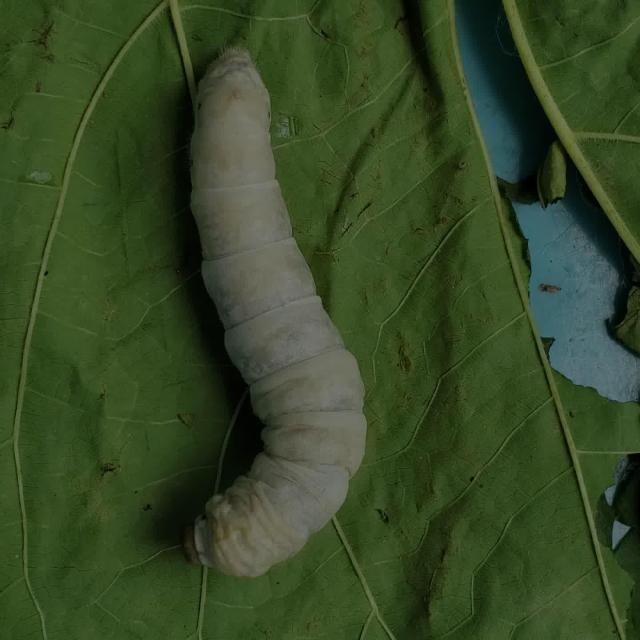Grasserie: (152, 32, 380, 584)
